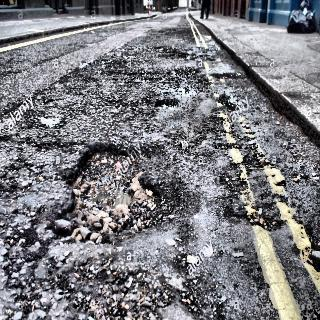pothole: (45, 128, 185, 269), (133, 62, 200, 106)
